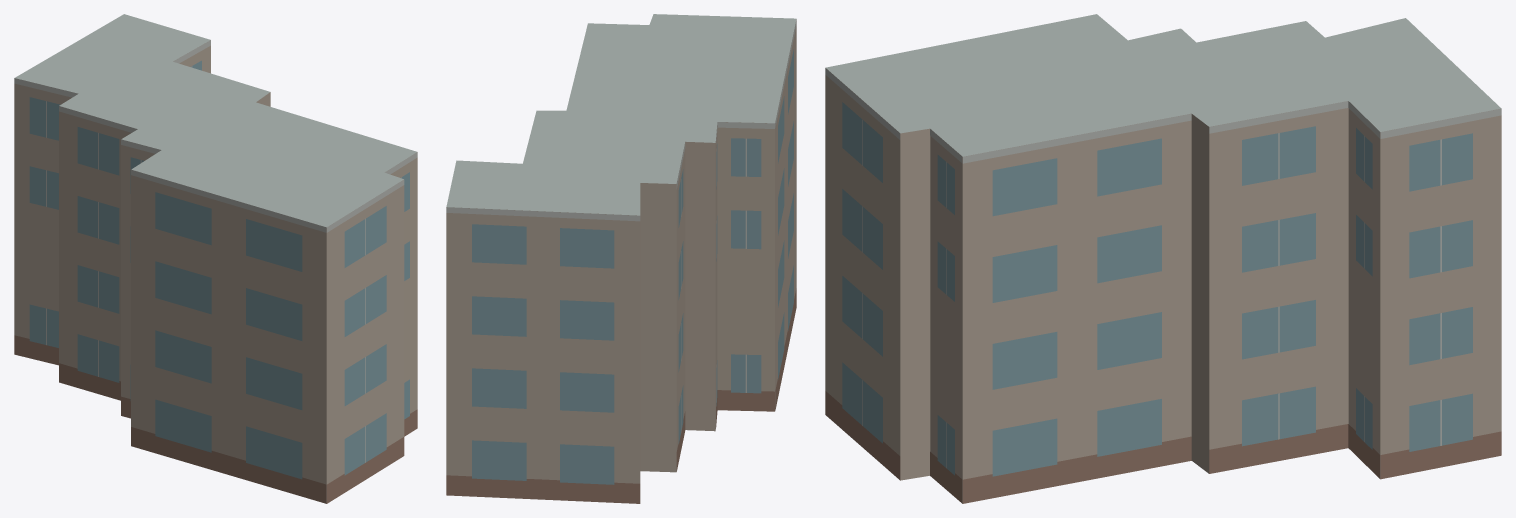
Rendered from survey-upis-32474684.glb.
3 renders of one model, left to right at view 1: azimuth 30°, elevation 25°; view 2: azimuth 150°, elevation 25°; view 3: azimuth 270°, elevation 25°, orthographic. The views are drawn at different scales.
Parts seen in each view (by area): view 1: survey-upis-32474684.tmp; view 2: survey-upis-32474684.tmp; view 3: survey-upis-32474684.tmp.
Boxes of the visible parts, x1,y1,x2,y2 form: survey-upis-32474684.tmp: (14, 14, 417, 503); survey-upis-32474684.tmp: (446, 14, 796, 503); survey-upis-32474684.tmp: (825, 14, 1501, 503).
Bounding box in the file's own units: 10.77 × 12.2 × 21.55.
